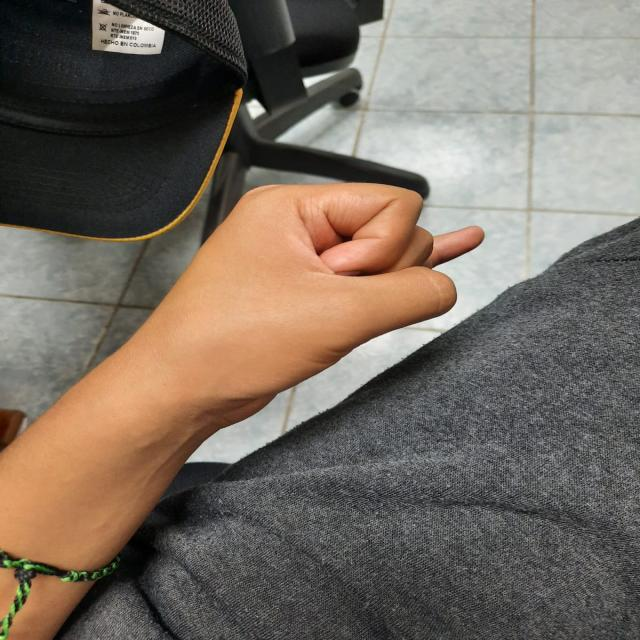Z: (59, 177, 503, 472)
